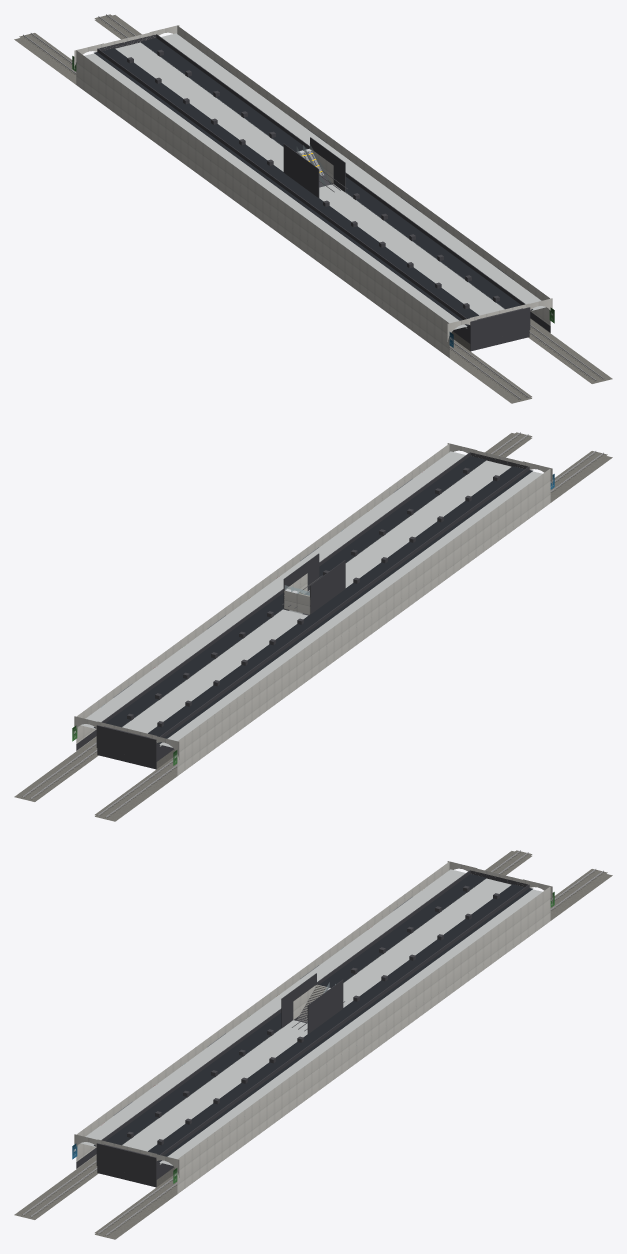
The model's file is wl80-r3-game-metro-assets-platform_fengqiroad_l1.glb.
The picture shows the model from 3 angles, top to bottom: view 1: azimuth 30°, elevation 25°; view 2: azimuth 150°, elevation 25°; view 3: azimuth 330°, elevation 25°; orthographic projection.
Visible parts, largest first — view 1: pf_hall, pf_col, pf_stairs_col, pf_stairs; view 2: pf_hall, pf_col, pf_stairs_col, pf_stairs; view 3: pf_hall, pf_col, pf_stairs_col, pf_stairs.
Boxes of the visible parts, x1,y1,x2,y2 form: pf_hall: (14,14,612,403); pf_col: (97,34,530,351); pf_stairs_col: (283,137,345,197); pf_stairs: (296,144,347,192); pf_hall: (14,432,612,821); pf_col: (96,452,529,769); pf_stairs_col: (283,553,345,614); pf_stairs: (282,573,322,614); pf_hall: (14,850,612,1239); pf_col: (96,870,529,1187); pf_stairs_col: (281,973,343,1033); pf_stairs: (292,982,344,1031).
Size of the model in its own units: 19.5 by 10.1 by 160.
Materials: 35 (18 with a texture image).
